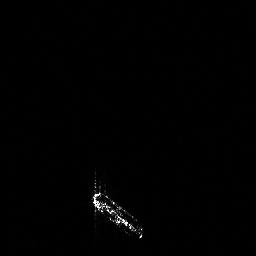ship: (86, 179, 147, 243)
